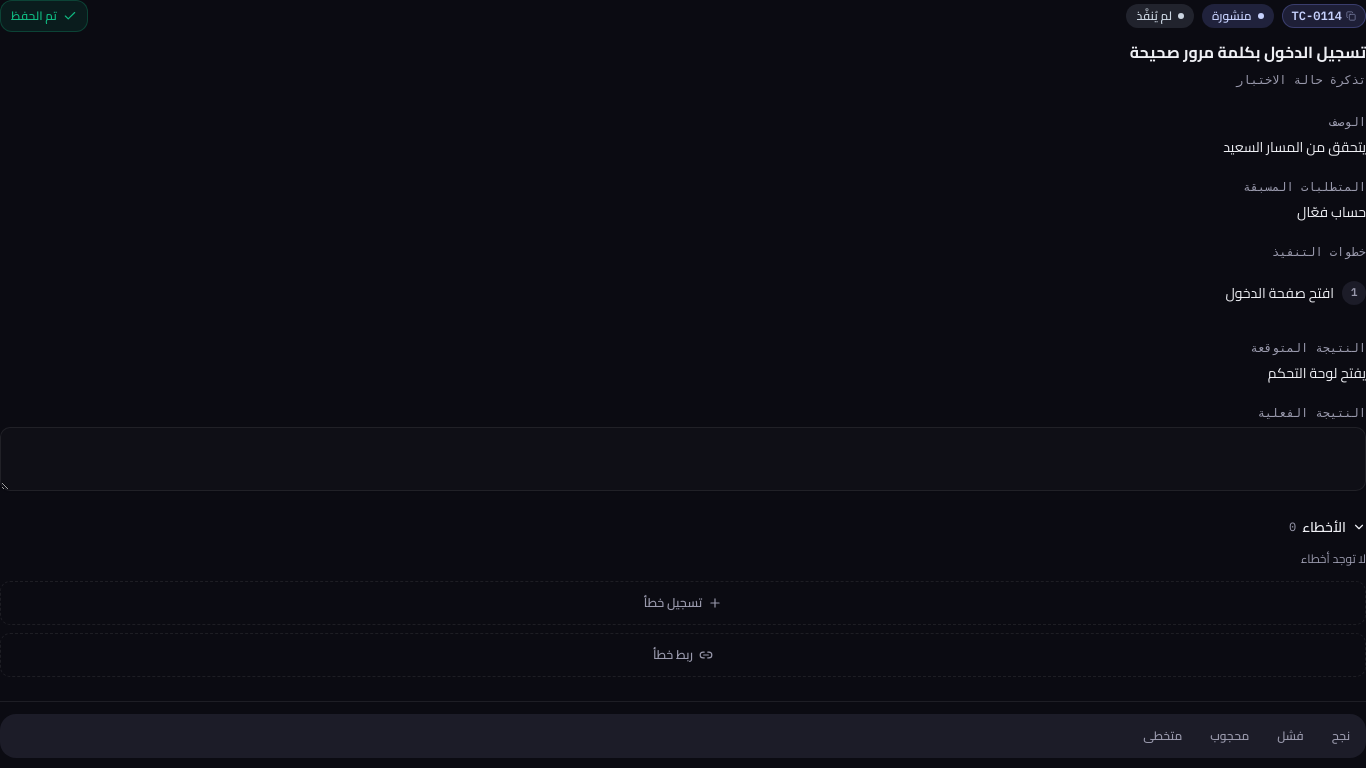
Scenario: TestCaseDetail — the bugs section › offers «ربط خطأ» beside filing a new one
The image size is (1366, 768).
Click the button "ربط خطأ": [683, 655] box [0,633,1365,677]
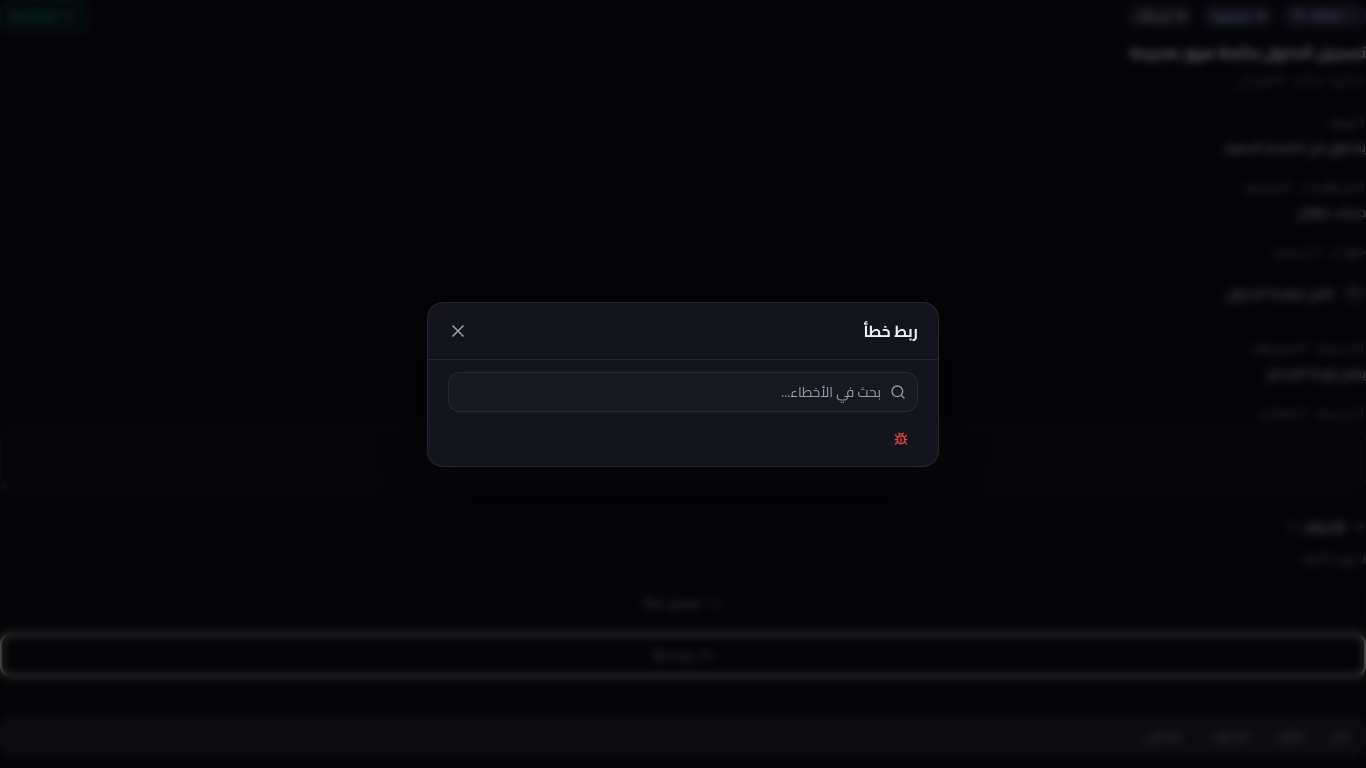
Now the dialog "ربط خطأ" is shown, box [427,302,939,466]
